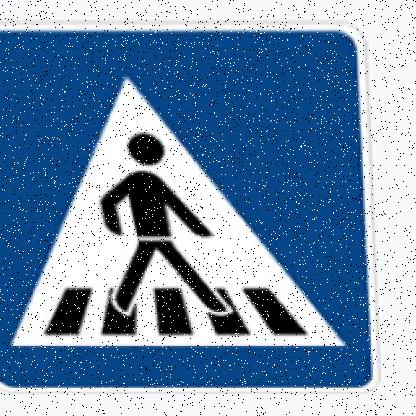Pedestrian Crossing: (1, 20, 376, 406)
